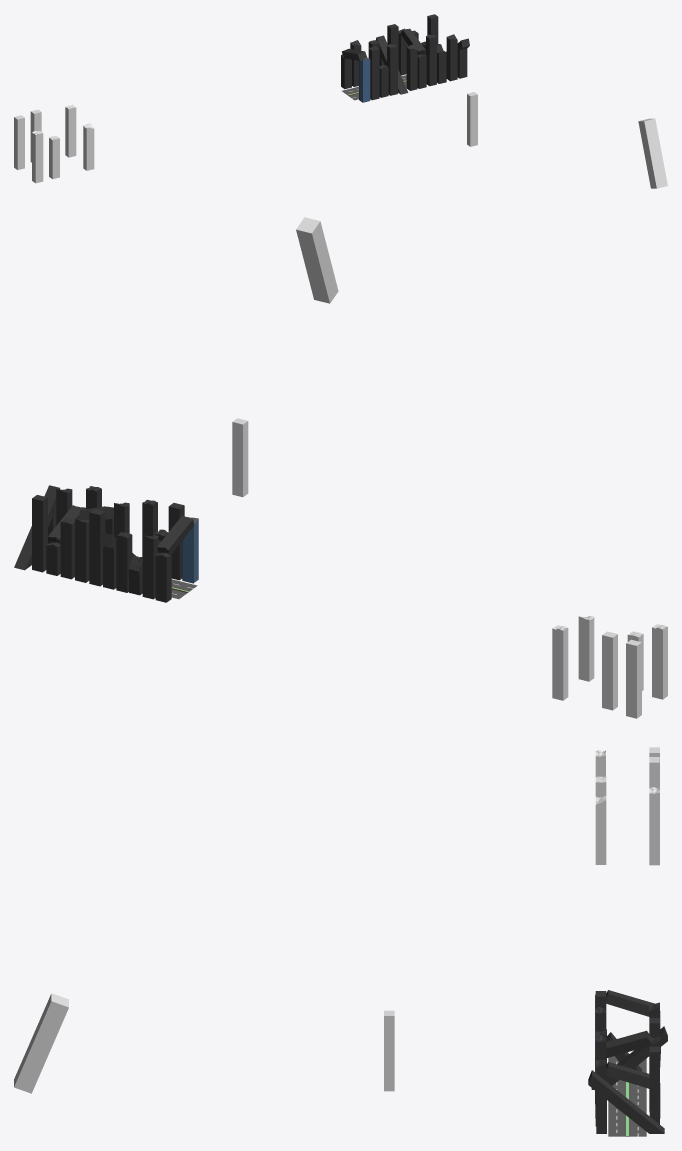
File: PostApocalypticStreetNotEnded.fbx
The picture shows the model from 3 angles, top to bottom: view 1: azimuth 30°, elevation 25°; view 2: azimuth 150°, elevation 25°; view 3: azimuth 270°, elevation 25°; orthographic projection. The views are drawn at different scales.
Parts seen in each view (by area): view 1: Plane, Cube.019, Cube.008, Cube.013, Cube.028, Cube.015, Cube.016, Cube.005, Cube.011; view 2: Plane, Cube.019, Cube.028, Cube.013, Cube.011, Cube.015, Cube.008, Cube.016; view 3: Plane, Cube.019, Cube.028, Cube.013, Cube.016.
Part boxes in pixels (x1=…): Plane: x1=341, y1=14, x2=469, y2=102; Cube.019: x1=638, y1=118, x2=667, y2=188; Cube.008: x1=32, y1=130, x2=43, y2=183; Cube.013: x1=65, y1=104, x2=76, y2=157; Cube.028: x1=467, y1=92, x2=477, y2=146; Cube.015: x1=14, y1=115, x2=24, y2=169; Cube.016: x1=83, y1=123, x2=94, y2=170; Cube.005: x1=49, y1=135, x2=59, y2=179; Cube.011: x1=30, y1=109, x2=41, y2=162; Plane: x1=14, y1=485, x2=198, y2=602; Cube.019: x1=296, y1=217, x2=338, y2=303; Cube.028: x1=232, y1=418, x2=248, y2=497; Cube.013: x1=552, y1=625, x2=568, y2=700; Cube.011: x1=602, y1=631, x2=617, y2=710; Cube.015: x1=626, y1=639, x2=641, y2=718; Cube.008: x1=652, y1=624, x2=667, y2=699; Cube.016: x1=578, y1=616, x2=594, y2=681; Plane: x1=588, y1=990, x2=667, y2=1136; Cube.019: x1=14, y1=993, x2=68, y2=1093; Cube.028: x1=384, y1=1010, x2=394, y2=1091; Cube.013: x1=649, y1=787, x2=659, y2=865; Cube.016: x1=595, y1=796, x2=606, y2=864.
Bounding box in the file's own units: 38682 × 7840 × 33837.
